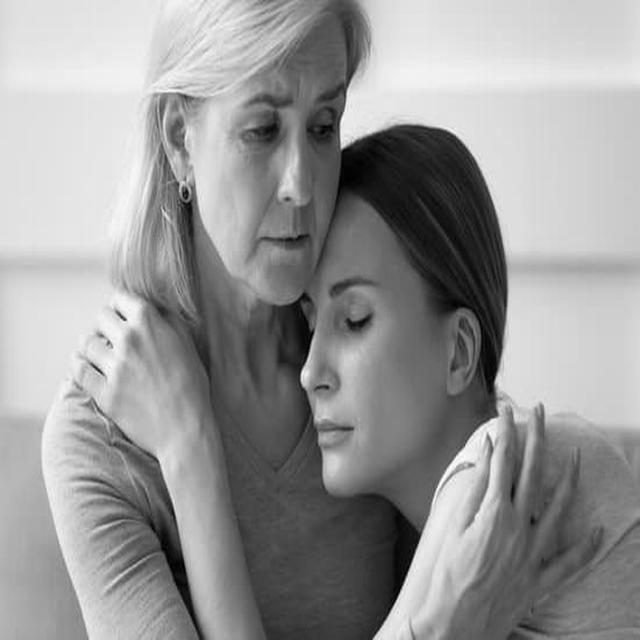Sadness: (209, 17, 345, 295)
